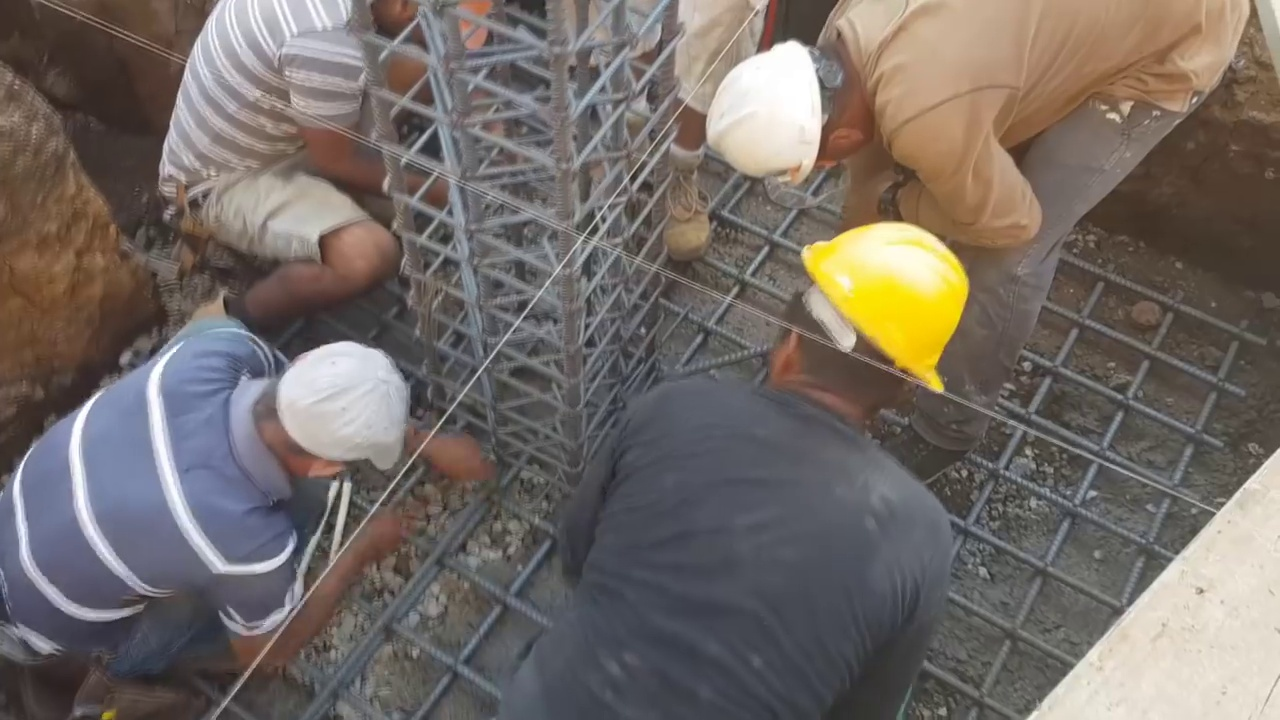helmet: (801, 224, 967, 393), (708, 43, 830, 181)
helmet-off: (246, 338, 414, 483)
helmet-on: (751, 224, 976, 437)
person: (705, 3, 1275, 496), (498, 222, 979, 716), (0, 332, 493, 693), (151, 0, 466, 343)
